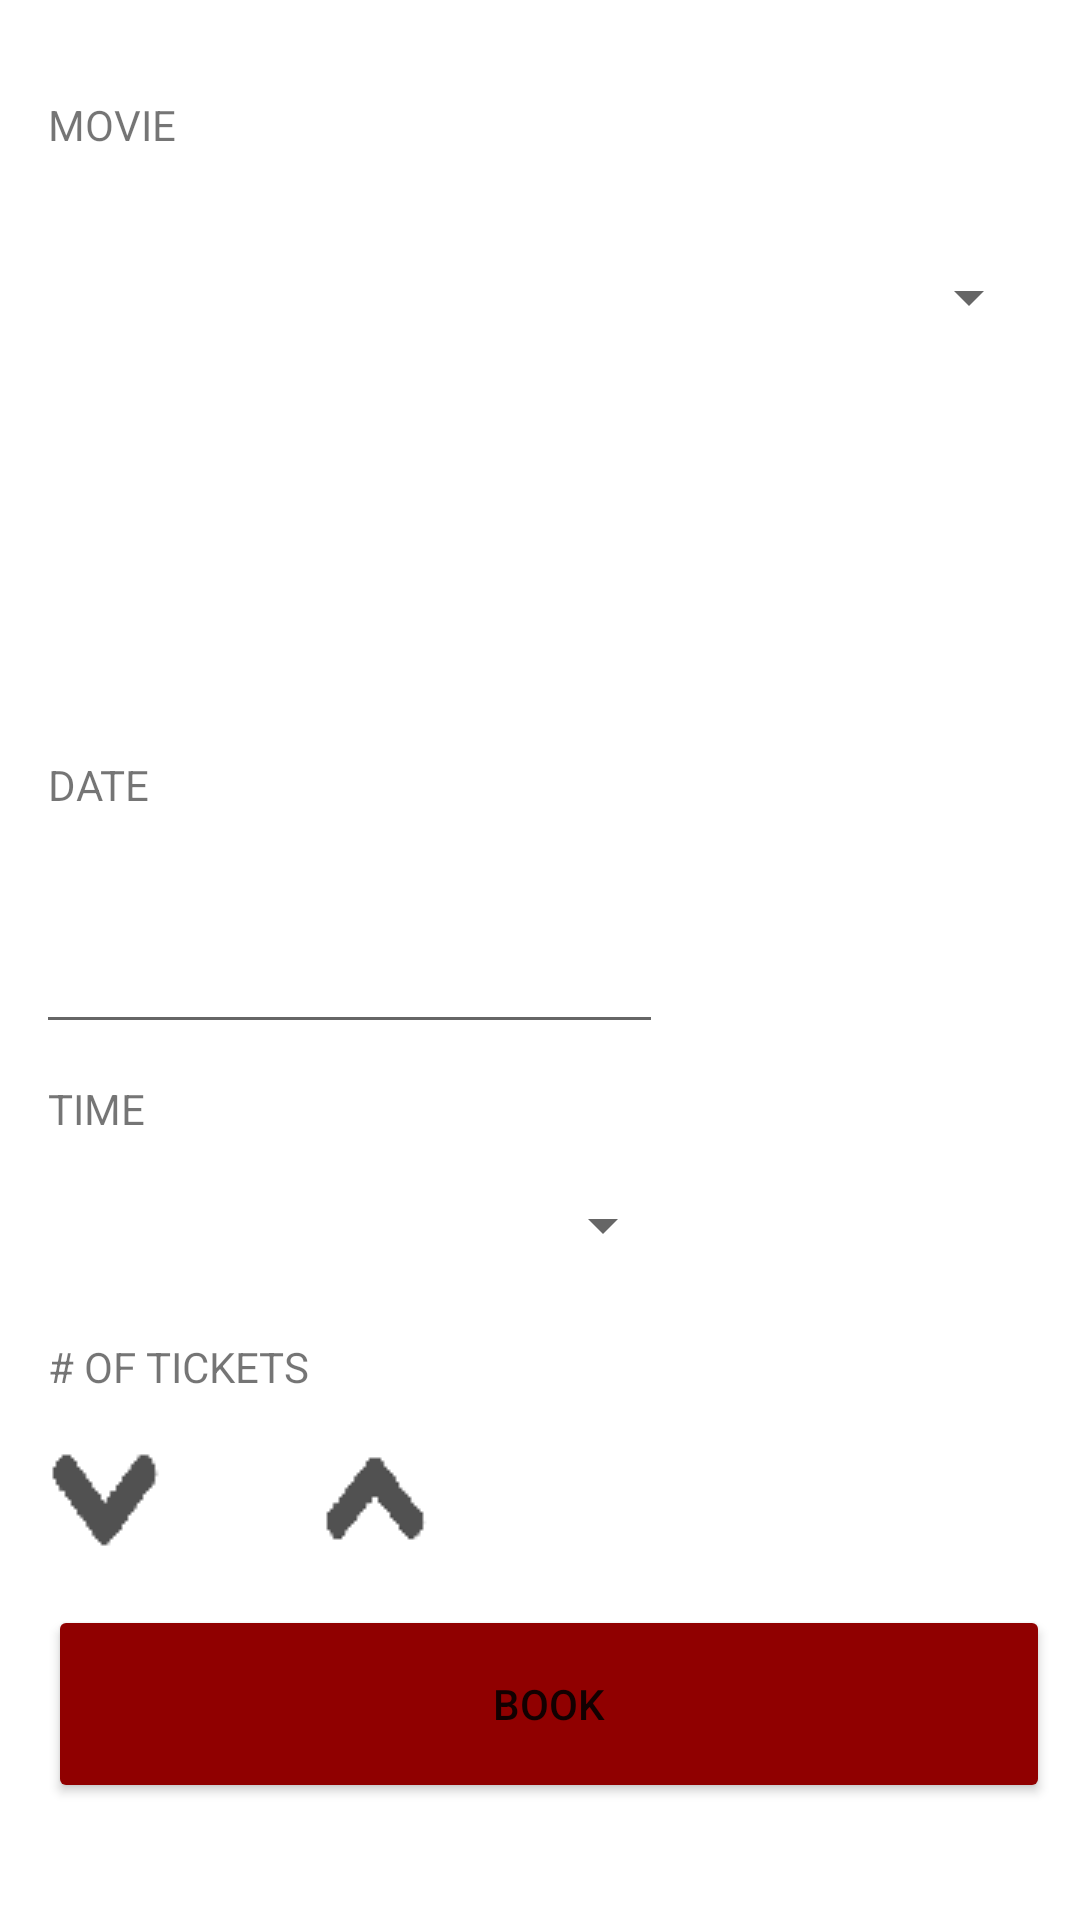

Icon click points for this 1080px×1920px phone screenshot, format point (x, y):
down: point (105, 1500)
